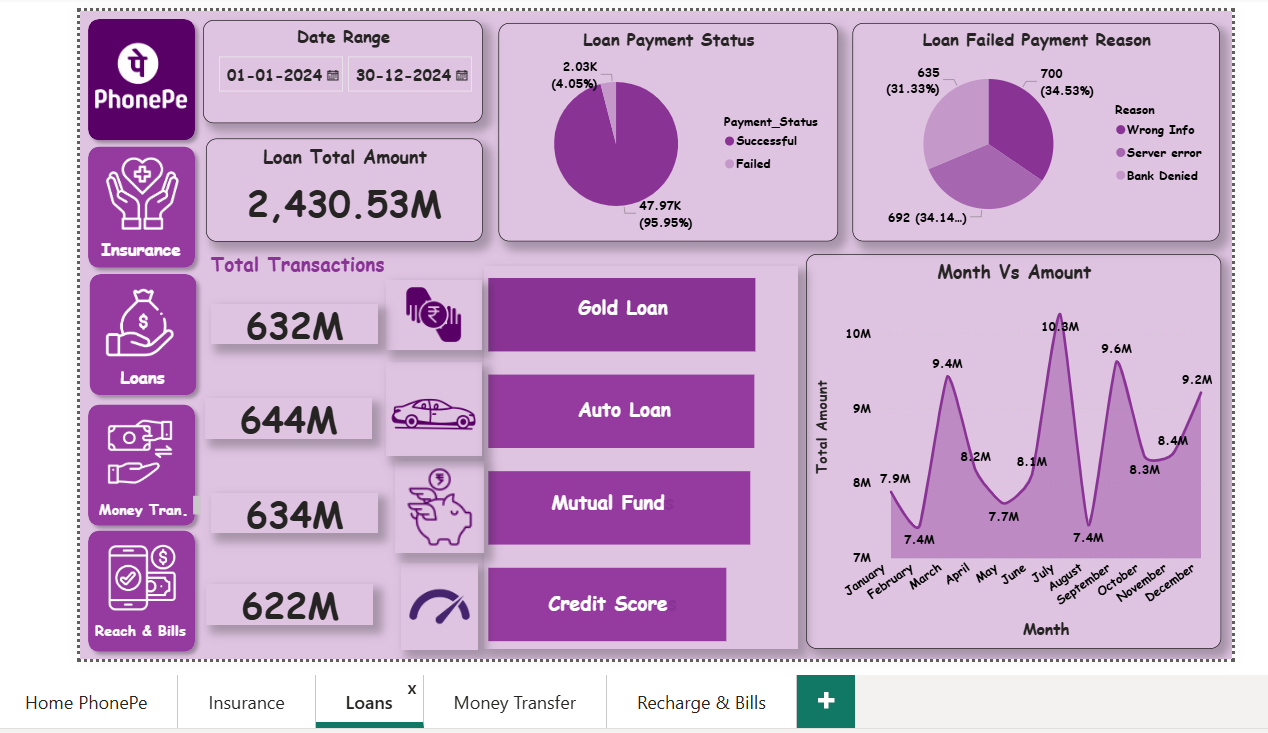

The dashboard page shown, as its layout file describes it:
{"tool":"powerbi","page":{"name":"Loans","canvas":[1280,720],"ordinal":2},"visuals":[{"type":"shape","box":[0,0,136.8,152.7],"z":0,"group":"g2"},{"type":"shape","box":[0,141.6,136.8,152.7],"z":0,"group":"g1"},{"type":"shape","box":[1.6,283.1,136.8,152.7],"z":0,"group":"g3"},{"type":"shape","box":[0,427.9,136.8,152.7],"z":0,"group":"g4"},{"type":"shape","box":[0,567.8,136.8,152.7],"z":0,"group":"g5"},{"type":"image","box":[6.4,12.7,120.9,122.5],"z":5,"group":"g2"},{"type":"card","title":"Loan Total Amount","fields":{"Values":["Sum(Loans.Loan_Amount)"]},"box":[139.3,140.9,307.7,115],"z":1000},{"type":"image","box":[14.3,147.9,108.2,108.2],"z":1000,"group":"g1"},{"type":"image","box":[20.7,295.9,95.4,97],"z":1000,"group":"g3"},{"type":"image","box":[19.1,443.8,97,89.1],"z":1000,"group":"g4"},{"type":"image","box":[17.5,580.5,105,95.4],"z":1000,"group":"g5"},{"type":"textbox","box":[4.8,246.5,125.7,36.6],"z":2000,"group":"g1"},{"type":"textbox","box":[8,388.1,122.5,39.8],"z":2000,"group":"g3"},{"type":"textbox","box":[11.1,532.9,127.2,33.4],"z":2000,"group":"g4"},{"type":"textbox","box":[8,671.2,117.7,49.3],"z":2000,"group":"g5"},{"type":"group","id":"g1","title":"Group 2","box":[0,0,136.8,294.3],"z":3000,"group":"g3"},{"type":"group","id":"g2","title":"Group 1","box":[0,0,136.8,152.7],"z":3000,"group":"g1"},{"type":"group","id":"g3","title":"Group 3","box":[0,0,138.4,435.8],"z":8000},{"type":"group","id":"g4","title":"Group 4","box":[0,427.9,138.4,152.7],"z":9000},{"type":"group","id":"g5","title":"Group 5","box":[0,567.8,136.8,152.7],"z":10000},{"type":"actionButton","box":[9.7,8.1,119.8,136],"z":11000},{"type":"actionButton","box":[8.1,147.3,123.1,140.9],"z":12000},{"type":"actionButton","box":[11.3,291.5,119.8,136],"z":13000},{"type":"actionButton","box":[11.3,437.2,119.8,131.2],"z":14000},{"type":"actionButton","box":[9.7,574.8,119.8,136],"z":15000},{"type":"slicer","title":"Date Range","fields":{"Values":["Loans.Date"]},"box":[136,9.7,310.9,115],"z":15001},{"type":"pieChart","title":"Loan Payment Status","fields":{"Category":["Loans.Payment_Status"],"Y":["CountNonNull(Loans.Payment_Status)"]},"box":[464.7,13,377.3,242.9],"z":15002},{"type":"pieChart","title":"Loan Failed Payment Reason","fields":{"Category":["Loans.Reason"],"Y":["CountNonNull(Loans.Reason)"]},"box":[858.2,13,408,242.9],"z":15003},{"type":"areaChart","title":"Month Vs Amount","fields":{"Category":["Loans.Date.Variation.Date Hierarchy.Month"],"Y":["Sum(Loans.Loan_Amount)"]},"box":[806.4,270.4,461.5,438.8],"z":15004},{"type":"clusteredBarChart","title":"Date Vs Amount","fields":{"Category":["Loans.Loan_Type"],"Y":["CountNonNull(Loans.Loan_Type)"]},"box":[448.6,283.2,349.8,425.8],"z":15005},{"type":"image","box":[349.8,500,98.9,102.7],"z":15006},{"type":"image","box":[340.3,298.5,106.5,77.9],"z":15008},{"type":"image","box":[340.3,389.7,106.5,104.6],"z":15009},{"type":"card","title":"Total Amount","fields":{"Values":["Sum(Loans.Loan_Amount)"]},"box":[138.8,429.6,186.3,45.6],"z":15010},{"type":"card","title":"Total Amount","fields":{"Values":["Sum(Loans.Loan_Amount)"]},"box":[144.5,325.1,186.3,45.6],"z":15011},{"type":"card","title":"Total Amount","fields":{"Values":["Sum(Loans.Loan_Amount)"]},"box":[140.7,636.8,186.3,45.6],"z":15012},{"type":"card","title":"Total Amount","fields":{"Values":["Sum(Loans.Loan_Amount)"]},"box":[144.5,534.2,186.3,45.6],"z":15013},{"type":"textbox","box":[138.8,260.4,207.2,62.7],"z":15014},{"type":"textbox","box":[505.7,308,207.2,62.7],"z":15015},{"type":"textbox","box":[488.6,636.8,207.2,62.7],"z":15016},{"type":"textbox","box":[463.8,422,283.2,62.7],"z":15017},{"type":"textbox","box":[488.6,524.7,207.2,62.7],"z":15018},{"type":"image","box":[357.4,614,85.5,97],"z":15019}]}

Visuals, with their boxes on the page's 1280x720 design canvas (x1, y1, x2, y2). These are canvas units, not pixel positions in the 1268x733 screenshot, which may show the page scaled, cropped or inside an application window:
shape: (x1=0, y1=0, x2=137, y2=153)
shape: (x1=0, y1=142, x2=137, y2=294)
shape: (x1=2, y1=283, x2=138, y2=436)
shape: (x1=0, y1=428, x2=137, y2=581)
shape: (x1=0, y1=568, x2=137, y2=720)
image: (x1=6, y1=13, x2=127, y2=135)
"Loan Total Amount" card: (x1=139, y1=141, x2=447, y2=256)
image: (x1=14, y1=148, x2=122, y2=256)
image: (x1=21, y1=296, x2=116, y2=393)
image: (x1=19, y1=444, x2=116, y2=533)
image: (x1=18, y1=580, x2=122, y2=676)
textbox: (x1=5, y1=246, x2=130, y2=283)
textbox: (x1=8, y1=388, x2=130, y2=428)
textbox: (x1=11, y1=533, x2=138, y2=566)
textbox: (x1=8, y1=671, x2=126, y2=720)
"Group 2" group: (x1=0, y1=0, x2=137, y2=294)
"Group 1" group: (x1=0, y1=0, x2=137, y2=153)
"Group 3" group: (x1=0, y1=0, x2=138, y2=436)
"Group 4" group: (x1=0, y1=428, x2=138, y2=581)
"Group 5" group: (x1=0, y1=568, x2=137, y2=720)
actionButton: (x1=10, y1=8, x2=130, y2=144)
actionButton: (x1=8, y1=147, x2=131, y2=288)
actionButton: (x1=11, y1=292, x2=131, y2=428)
actionButton: (x1=11, y1=437, x2=131, y2=568)
actionButton: (x1=10, y1=575, x2=130, y2=711)
"Date Range" slicer: (x1=136, y1=10, x2=447, y2=125)
"Loan Payment Status" pieChart: (x1=465, y1=13, x2=842, y2=256)
"Loan Failed Payment Reason" pieChart: (x1=858, y1=13, x2=1266, y2=256)
"Month Vs Amount" areaChart: (x1=806, y1=270, x2=1268, y2=709)
"Date Vs Amount" clusteredBarChart: (x1=449, y1=283, x2=798, y2=709)
image: (x1=350, y1=500, x2=449, y2=603)
image: (x1=340, y1=298, x2=447, y2=376)
image: (x1=340, y1=390, x2=447, y2=494)
"Total Amount" card: (x1=139, y1=430, x2=325, y2=475)
"Total Amount" card: (x1=144, y1=325, x2=331, y2=371)
"Total Amount" card: (x1=141, y1=637, x2=327, y2=682)
"Total Amount" card: (x1=144, y1=534, x2=331, y2=580)
textbox: (x1=139, y1=260, x2=346, y2=323)
textbox: (x1=506, y1=308, x2=713, y2=371)
textbox: (x1=489, y1=637, x2=696, y2=700)
textbox: (x1=464, y1=422, x2=747, y2=485)
textbox: (x1=489, y1=525, x2=696, y2=587)
image: (x1=357, y1=614, x2=443, y2=711)
